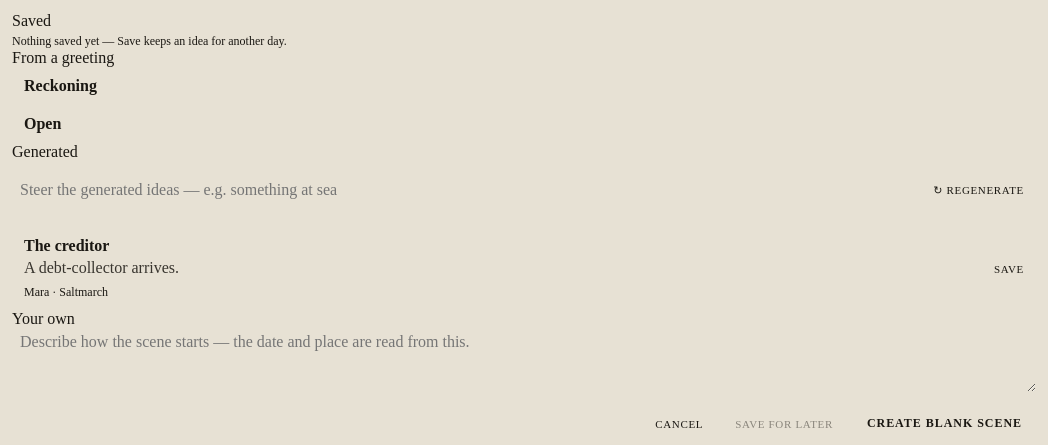
Save keeps a generated card, sending ids rather than the names it rendered
Click the button with aria-label "Save The creditor": (1009, 268) [982,227,1036,310]
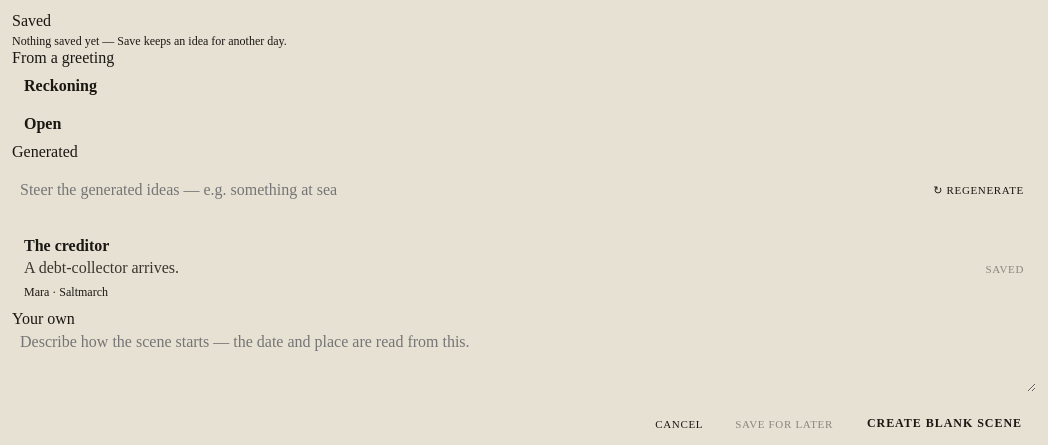
Expected: the button with aria-label "Saved The creditor" is disabled, [973,227,1036,310]
